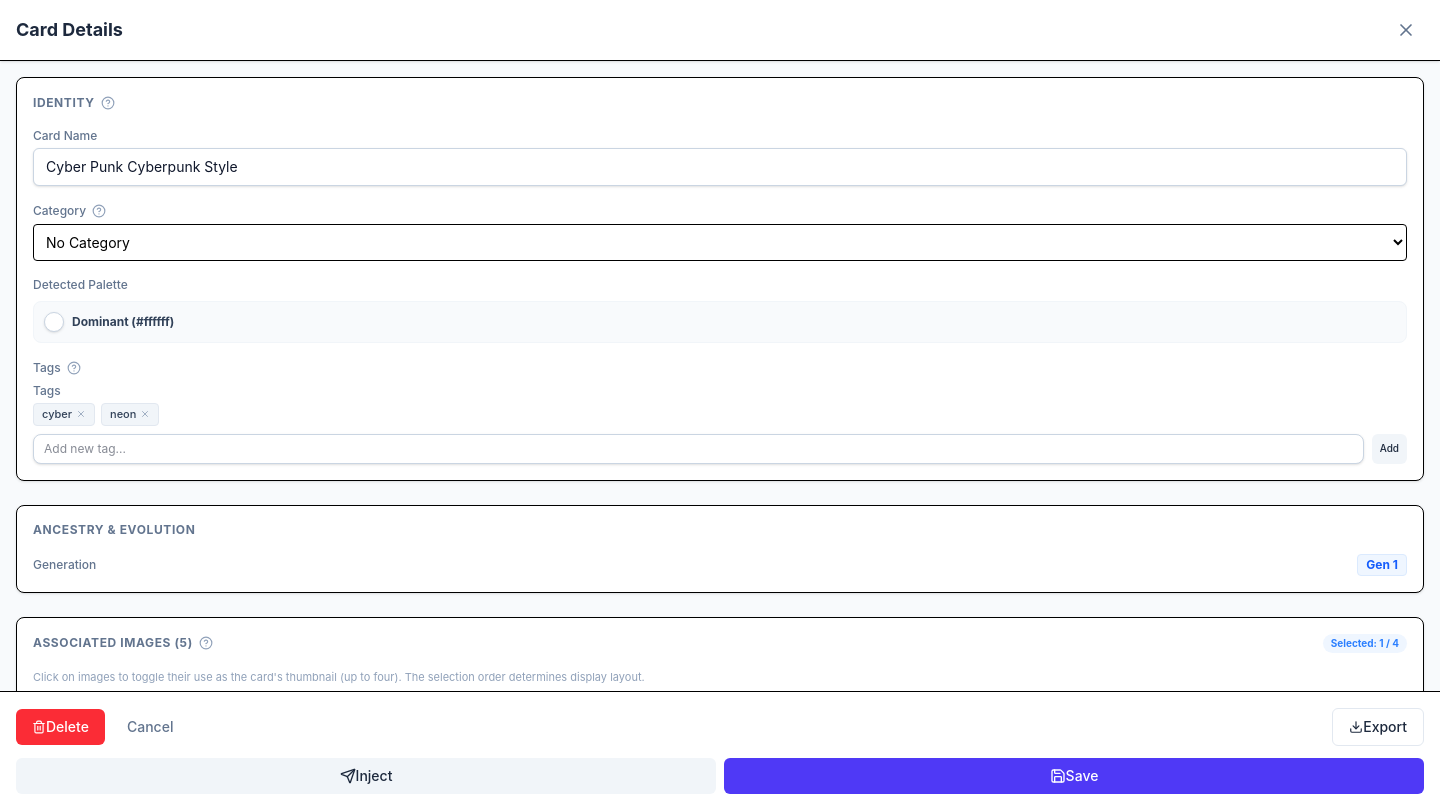
it: CardDetailView › shows delete button, opens confirmation modal, and cancels properly
Step 1. Click the button with test id "delete-card-button" → (60, 727), box [16,709,105,745]
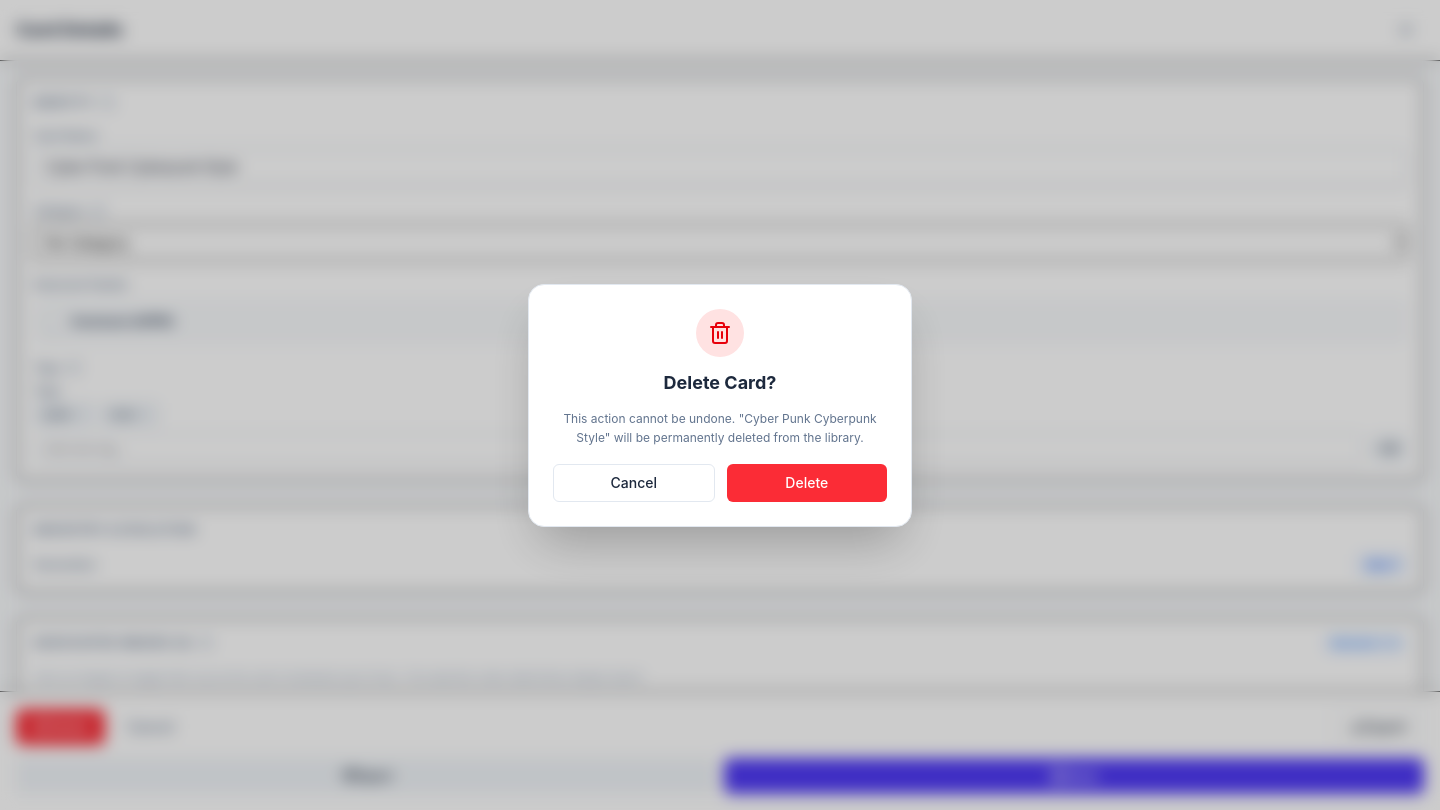
Result: the element with test id "delete-confirm-modal" is shown
Step 2. Click the button with test id "delete-confirm-cancel-button" → (634, 482), box [553,464,715,502]
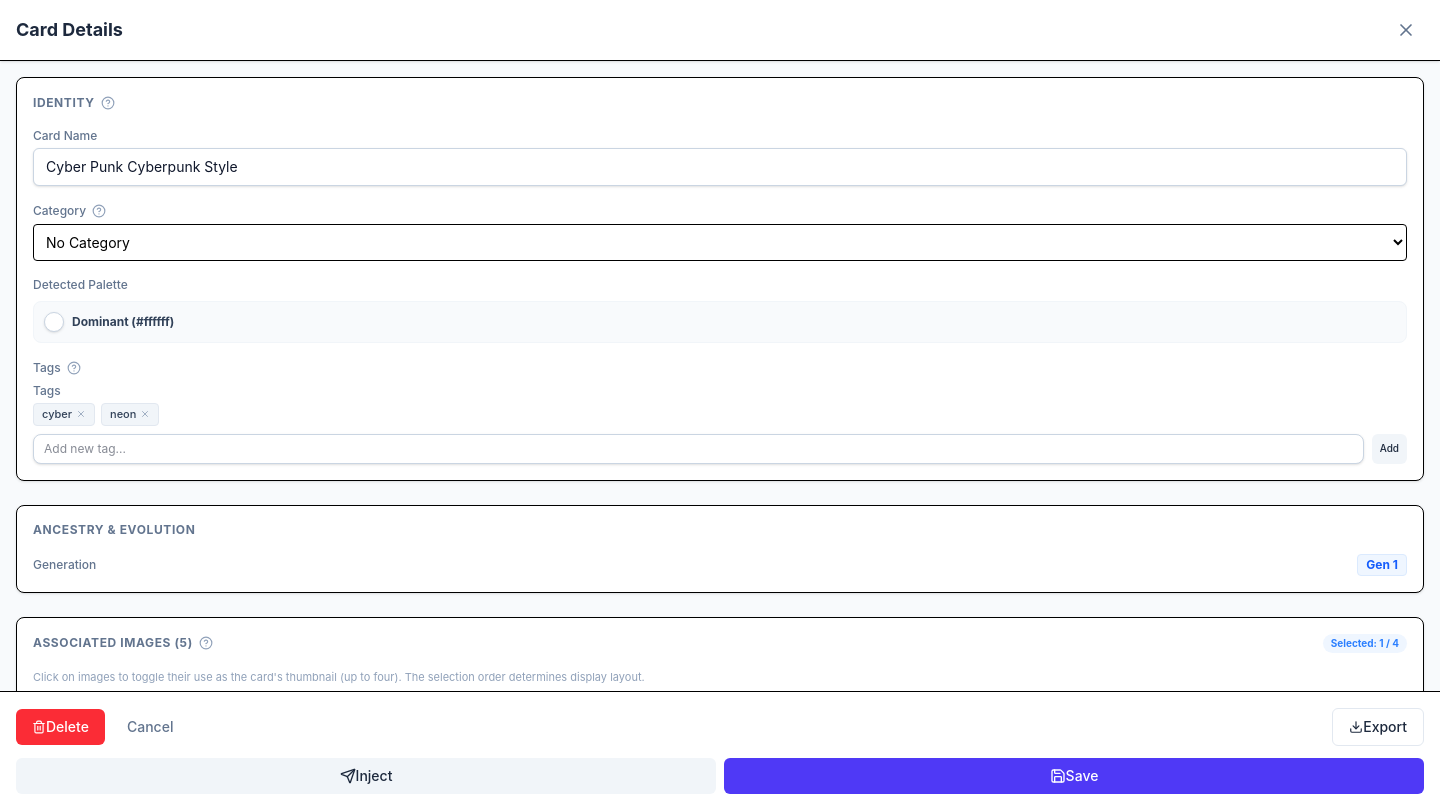
Result: the element with test id "delete-confirm-modal" is gone
